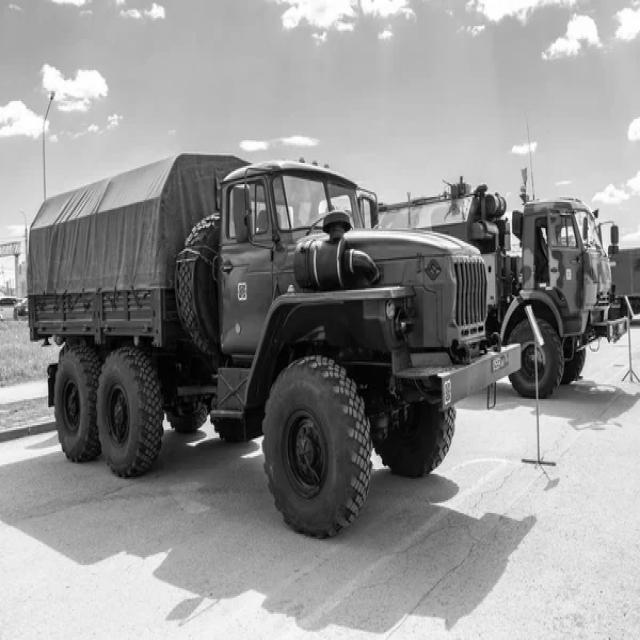Truck: (30, 153, 520, 538), (380, 178, 628, 398)
